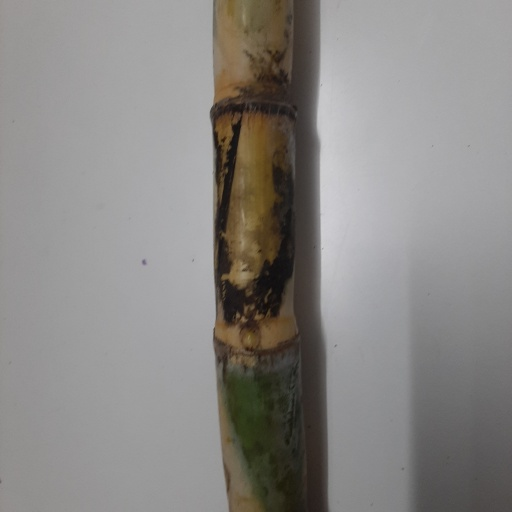Bud: (239, 321, 261, 354)
